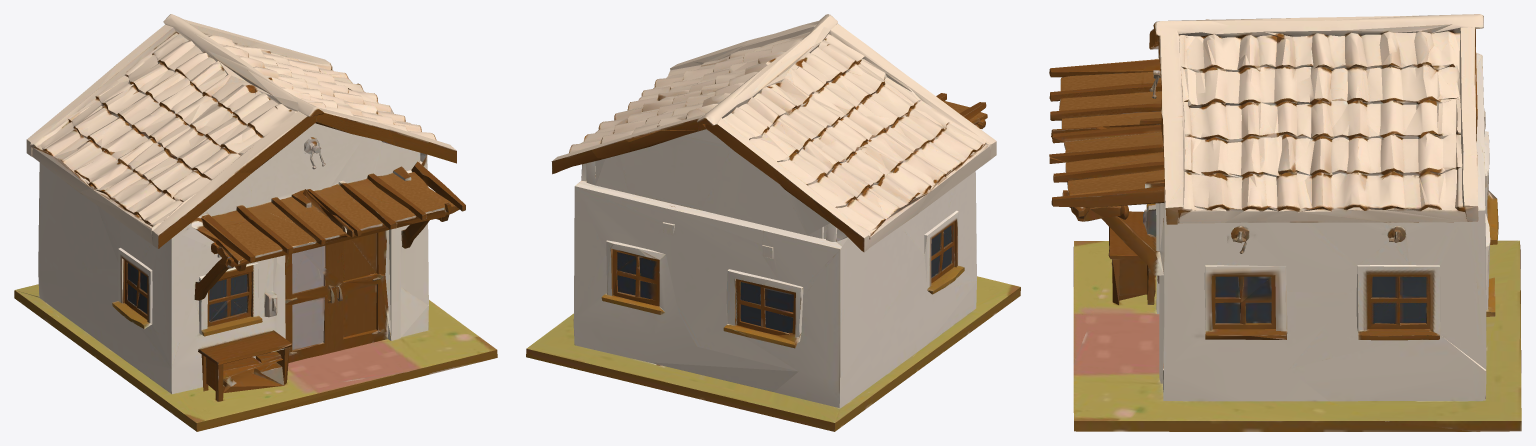
File: building-workshop.glb
3 renders of one model, left to right at view 1: azimuth 30°, elevation 25°; view 2: azimuth 150°, elevation 25°; view 3: azimuth 270°, elevation 25°, orthographic. The views are drawn at different scales.
Bounding box in the file's own units: 1.77 × 1.43 × 1.9.
Materials: 1 (1 with a texture image).
